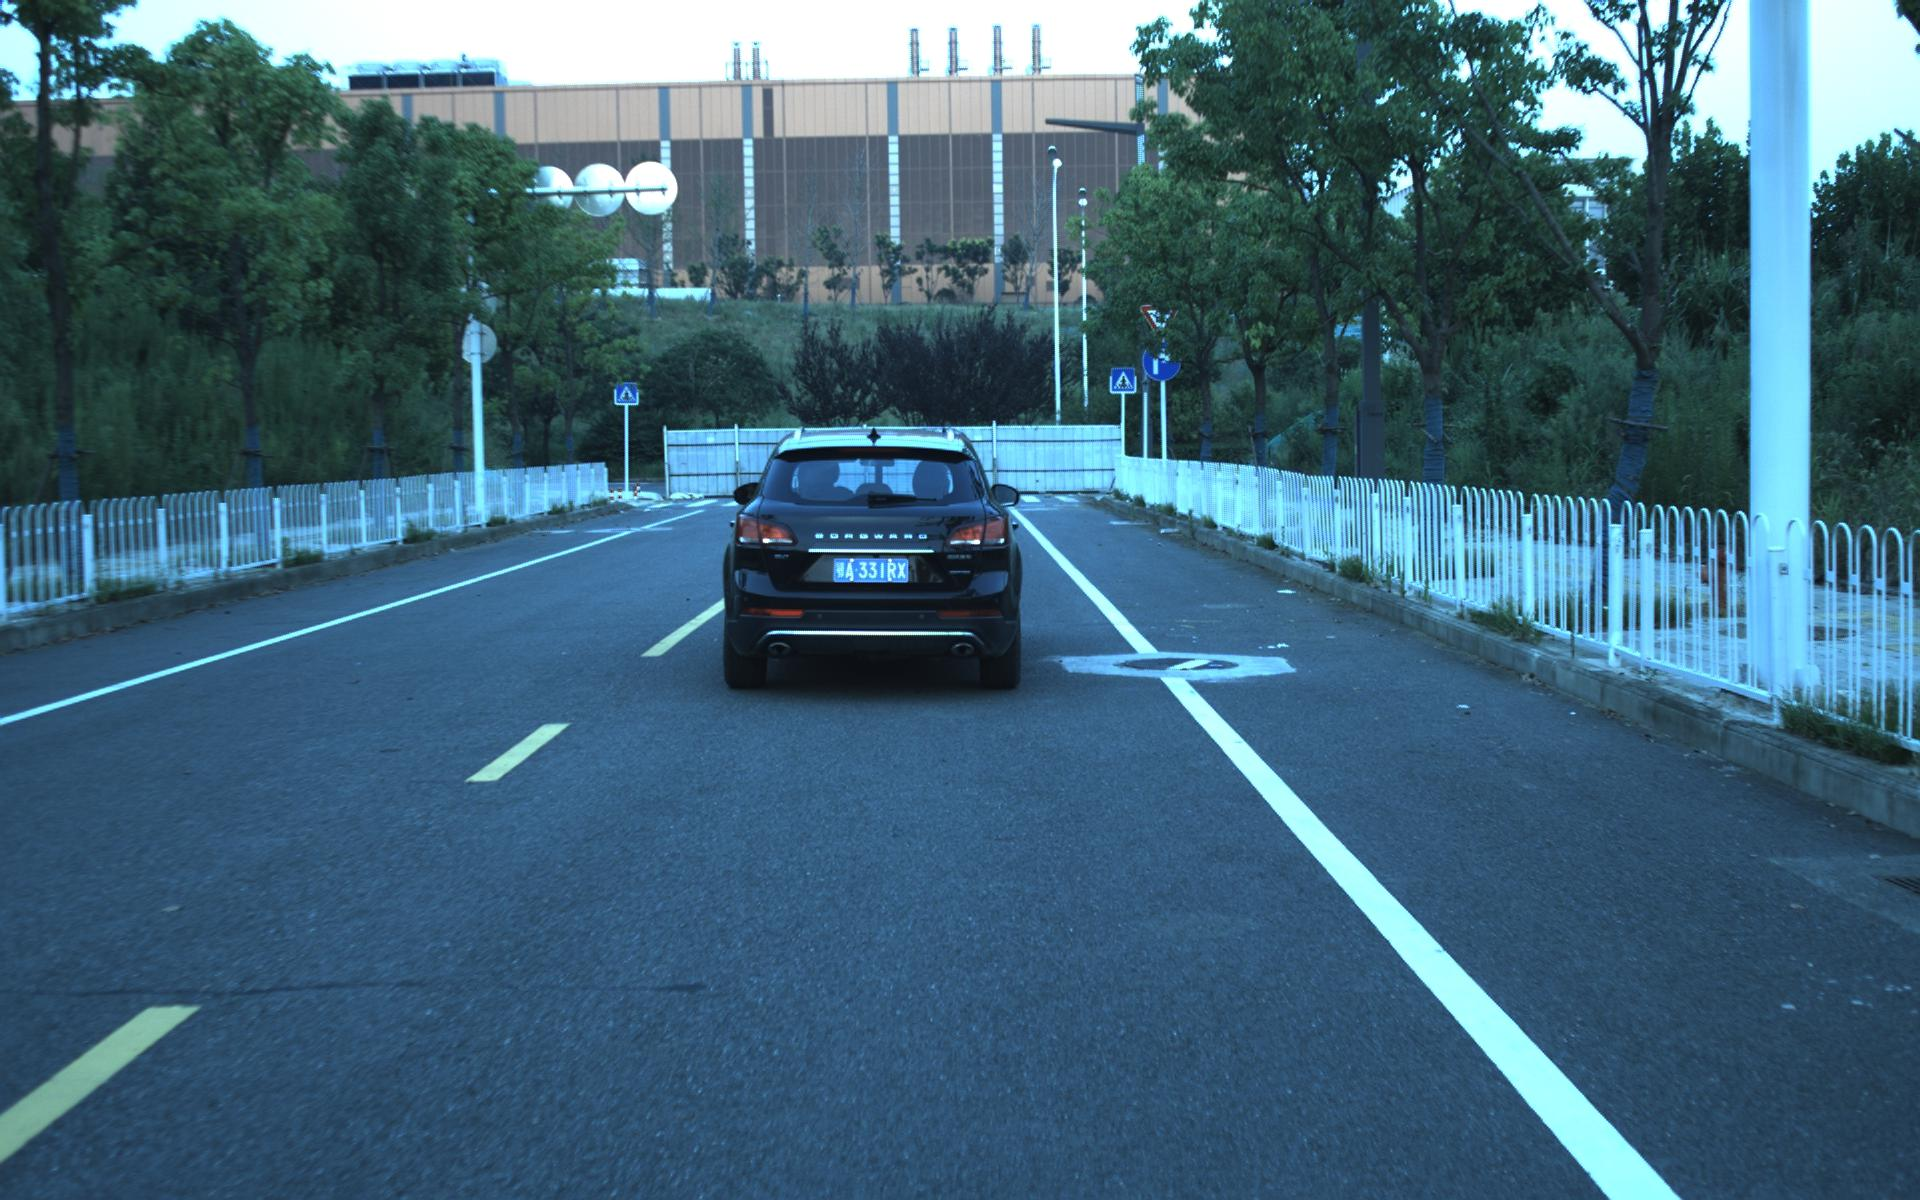Car: (720, 415, 1024, 694)
